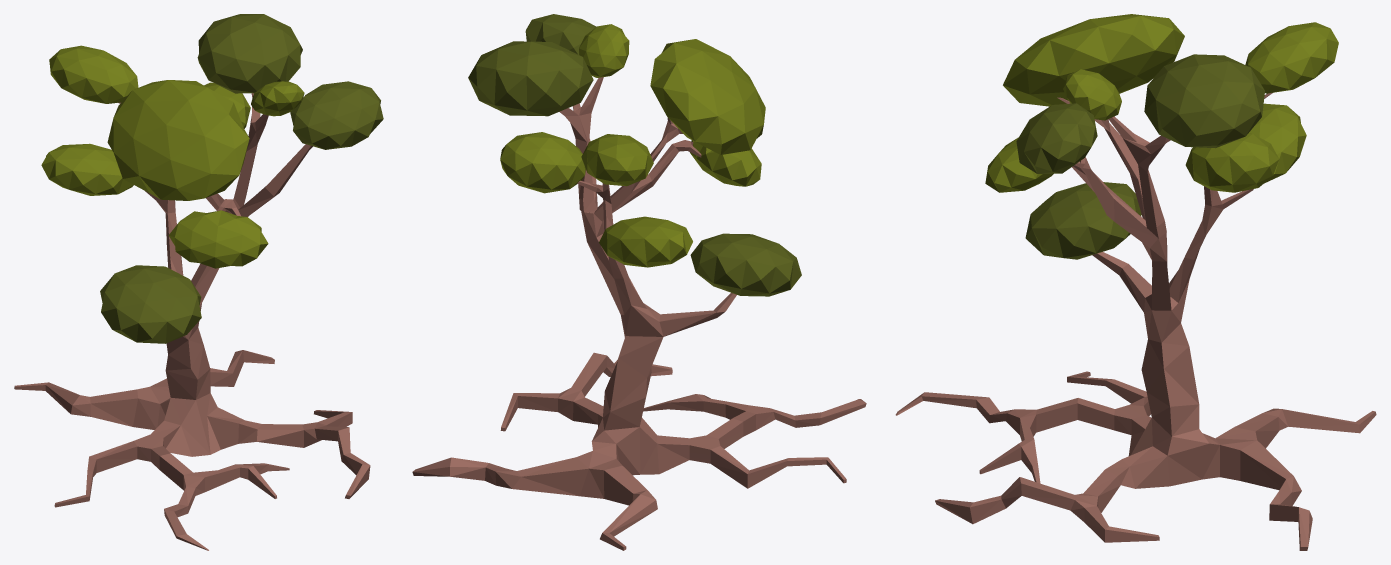
The model's file is Big Tree_3.fbx.
3 renders of one model, left to right at view 1: azimuth 30°, elevation 25°; view 2: azimuth 150°, elevation 25°; view 3: azimuth 270°, elevation 25°, orthographic. The views are drawn at different scales.
Parts seen in each view (by area): view 1: Big Tree_3; view 2: Big Tree_3; view 3: Big Tree_3.
Boxes of the visible parts, <box> form: Big Tree_3: <box>14,14,383,550</box>; Big Tree_3: <box>412,14,866,550</box>; Big Tree_3: <box>895,14,1376,550</box>.
Size of the model in its own units: 7.57 by 8.97 by 8.69.
